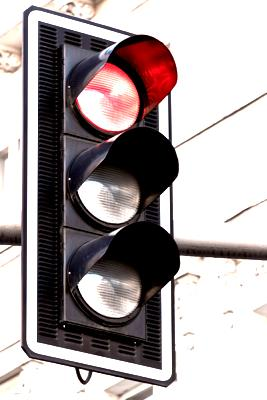International Road Signal Light: (21, 8, 178, 378)
